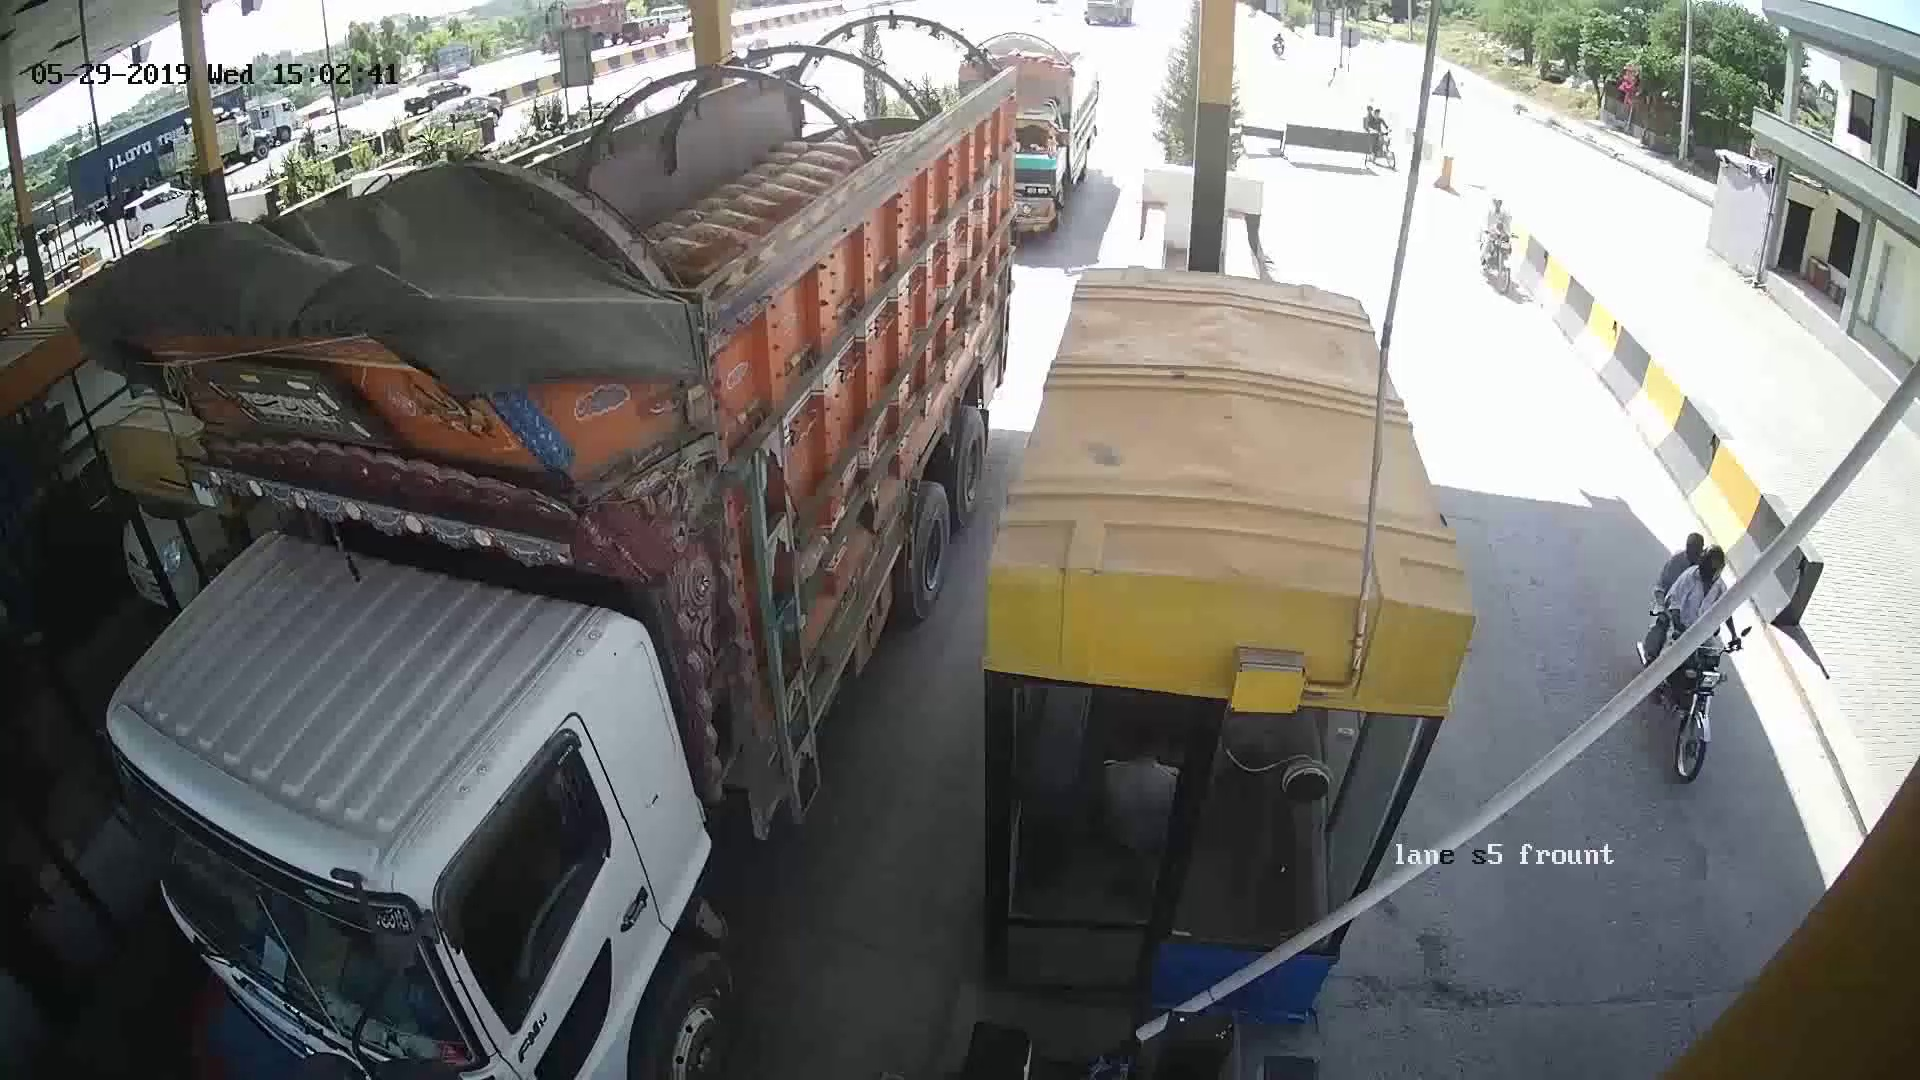truck: (119, 138, 990, 1035)
